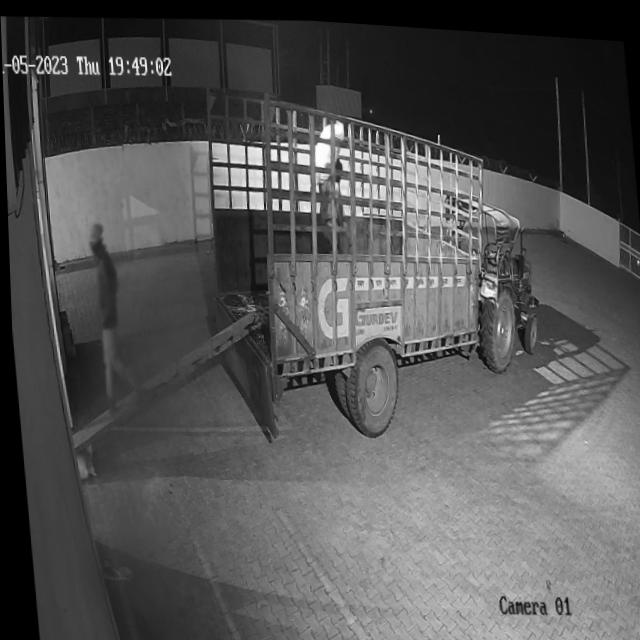sack: (305, 112, 348, 182)
